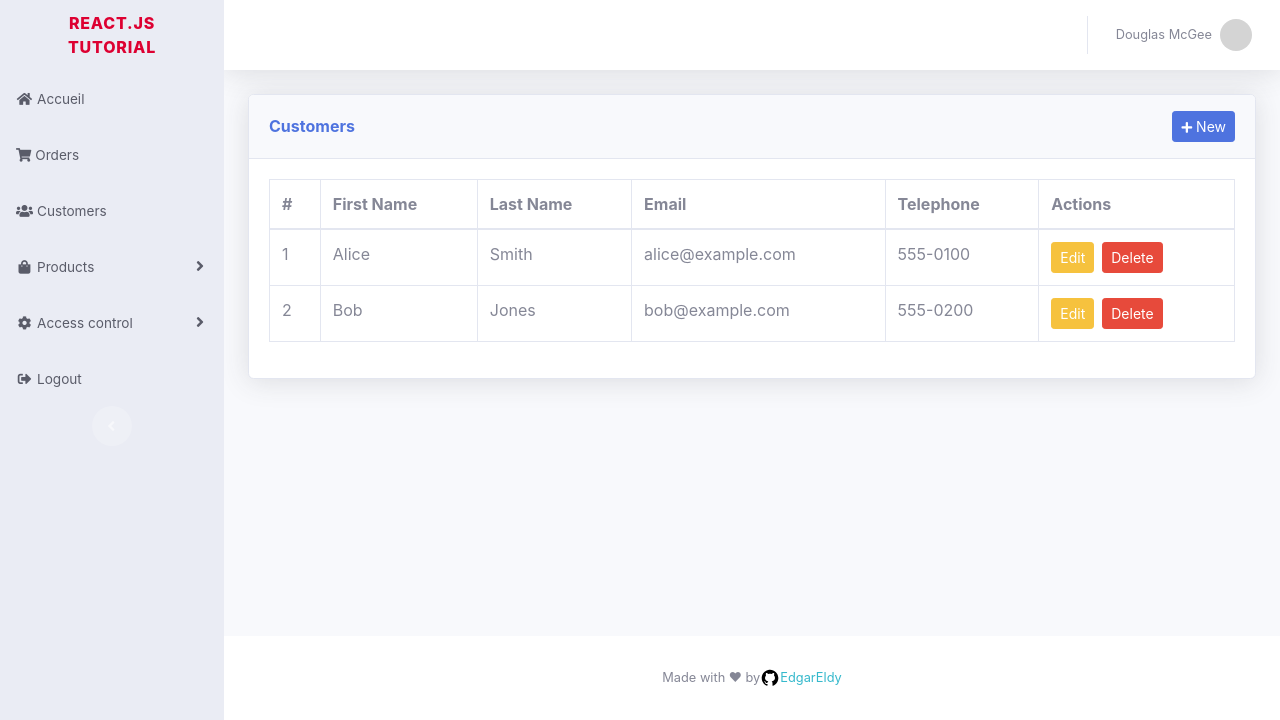
Test: Customers CRUD › opens the New Customer modal and shows all 5 fields
The width and height of the screenshot is (1280, 720).
Step 1. Click the button "New" → (1204, 127), box [1172,111,1235,142]
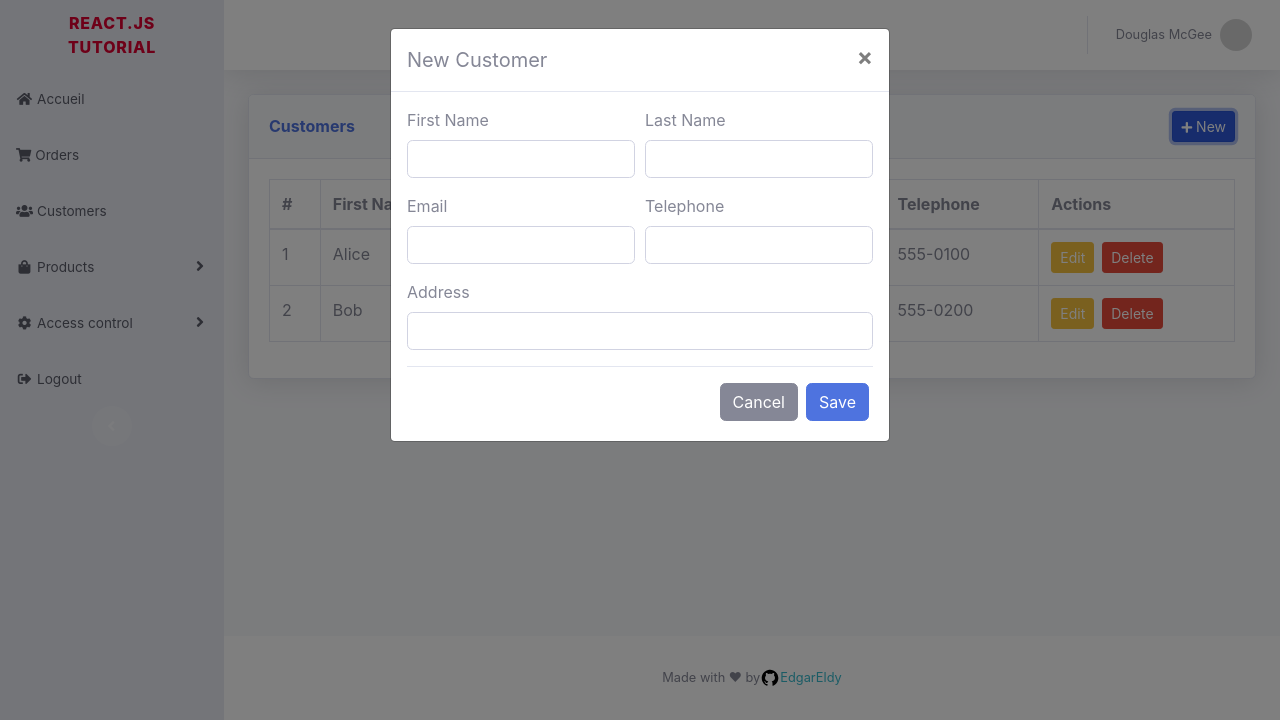
Check: the heading "New Customer" is shown, box [407,45,547,75]
Check: the field with id "firstName" is shown, box [407,140,635,178]
Check: the field with id "lastName" is shown, box [645,140,873,178]
